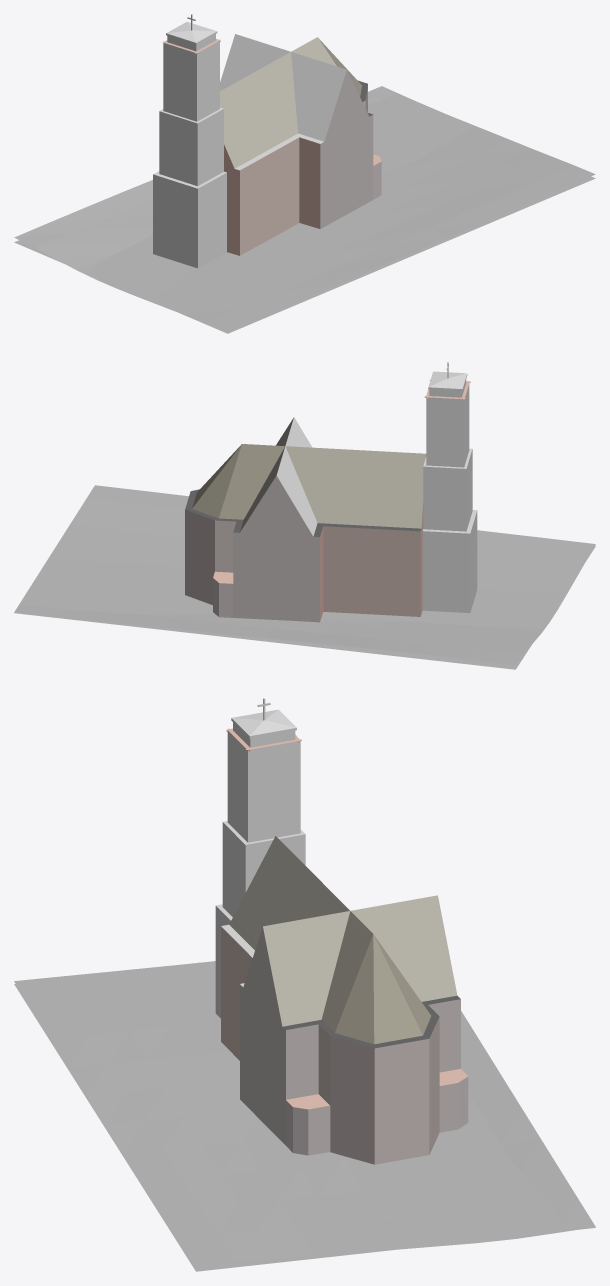
File: eglise_rouge.glb
3 renders of one model, top to bottom at view 1: azimuth 30°, elevation 25°; view 2: azimuth 150°, elevation 25°; view 3: azimuth 270°, elevation 25°, orthographic. The views are drawn at different scales.
Visible parts, largest first — view 1: imagetostl_mesh200, imagetostl_mesh268, imagetostl_mesh252, imagetostl_mesh315, imagetostl_mesh240, imagetostl_mesh264, imagetostl_mesh286, imagetostl_mesh210, imagetostl_mesh243, imagetostl_mesh265, imagetostl_mesh287, imagetostl_mesh211 (+5 smaller); view 2: imagetostl_mesh200, imagetostl_mesh266, imagetostl_mesh244, imagetostl_mesh249, imagetostl_mesh216, imagetostl_mesh209, imagetostl_mesh282, imagetostl_mesh247, imagetostl_mesh289, imagetostl_mesh241, imagetostl_mesh317, imagetostl_mesh265 (+9 smaller); view 3: imagetostl_mesh200, imagetostl_mesh269, imagetostl_mesh251, imagetostl_mesh263, imagetostl_mesh268, imagetostl_mesh315, imagetostl_mesh248, imagetostl_mesh208, imagetostl_mesh279, imagetostl_mesh277, imagetostl_mesh252, imagetostl_mesh290 (+14 smaller).
Boxes of the visible parts, left/top/right/bottom form: imagetostl_mesh200: left=14, top=92, right=595, bottom=333; imagetostl_mesh268: left=220, top=52, right=297, bottom=168; imagetostl_mesh252: left=240, top=137, right=299, bottom=255; imagetostl_mesh315: left=320, top=115, right=373, bottom=228; imagetostl_mesh240: left=153, top=174, right=197, bottom=268; imagetostl_mesh264: left=291, top=52, right=346, bottom=141; imagetostl_mesh286: left=159, top=111, right=197, bottom=186; imagetostl_mesh210: left=163, top=43, right=196, bottom=121; imagetostl_mesh243: left=299, top=137, right=320, bottom=228; imagetostl_mesh265: left=220, top=34, right=290, bottom=90; imagetostl_mesh287: left=197, top=109, right=223, bottom=185; imagetostl_mesh211: left=197, top=41, right=219, bottom=121; imagetostl_mesh200: left=14, top=546, right=595, bottom=669; imagetostl_mesh266: left=285, top=446, right=425, bottom=528; imagetostl_mesh244: left=323, top=526, right=420, bottom=616; imagetostl_mesh249: left=233, top=532, right=319, bottom=622; imagetostl_mesh216: left=423, top=466, right=466, bottom=531; imagetostl_mesh209: left=426, top=398, right=464, bottom=467; imagetostl_mesh282: left=219, top=444, right=284, bottom=519; imagetostl_mesh247: left=185, top=509, right=214, bottom=605; imagetostl_mesh289: left=240, top=476, right=313, bottom=536; imagetostl_mesh241: left=444, top=532, right=470, bottom=612; imagetostl_mesh317: left=422, top=531, right=444, bottom=611; imagetostl_mesh265: left=276, top=447, right=317, bottom=536; imagetostl_mesh200: left=14, top=961, right=595, bottom=1271; imagetostl_mesh269: left=263, top=911, right=350, bottom=1026; imagetostl_mesh251: left=374, top=1039, right=429, bottom=1164; imagetostl_mesh263: left=351, top=895, right=457, bottom=1001; imagetostl_mesh268: left=229, top=836, right=349, bottom=949; imagetostl_mesh315: left=240, top=984, right=285, bottom=1145; imagetostl_mesh248: left=330, top=1036, right=374, bottom=1164; imagetostl_mesh208: left=248, top=742, right=300, bottom=842; imagetostl_mesh279: left=373, top=934, right=422, bottom=1044; imagetostl_mesh277: left=321, top=911, right=373, bottom=1032; imagetostl_mesh252: left=221, top=926, right=252, bottom=1060; imagetostl_mesh290: left=286, top=1024, right=318, bottom=1099.
Size of the model in its own units: 5209 by 2371 by 3861.
